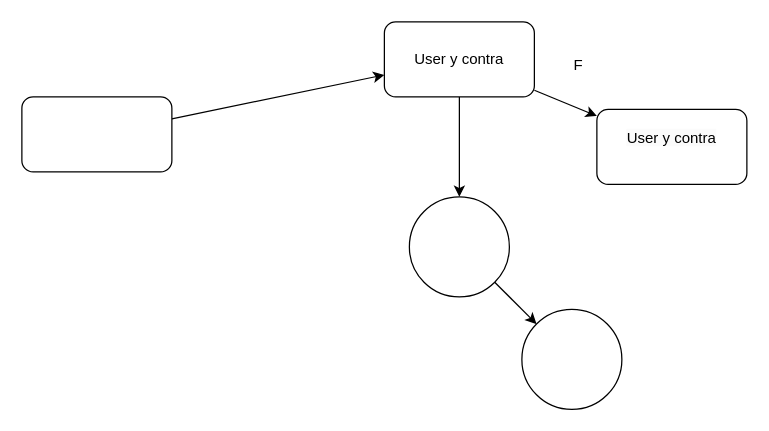
The diagram is 769 pixels wide and 431 high, and some of its shapes have lost their labels. The shapes that lost their labels are listed below. From the top down, each one's centre as x and y in pixels, then its label:
point 96,134: INICIO
point 458,246: edad
